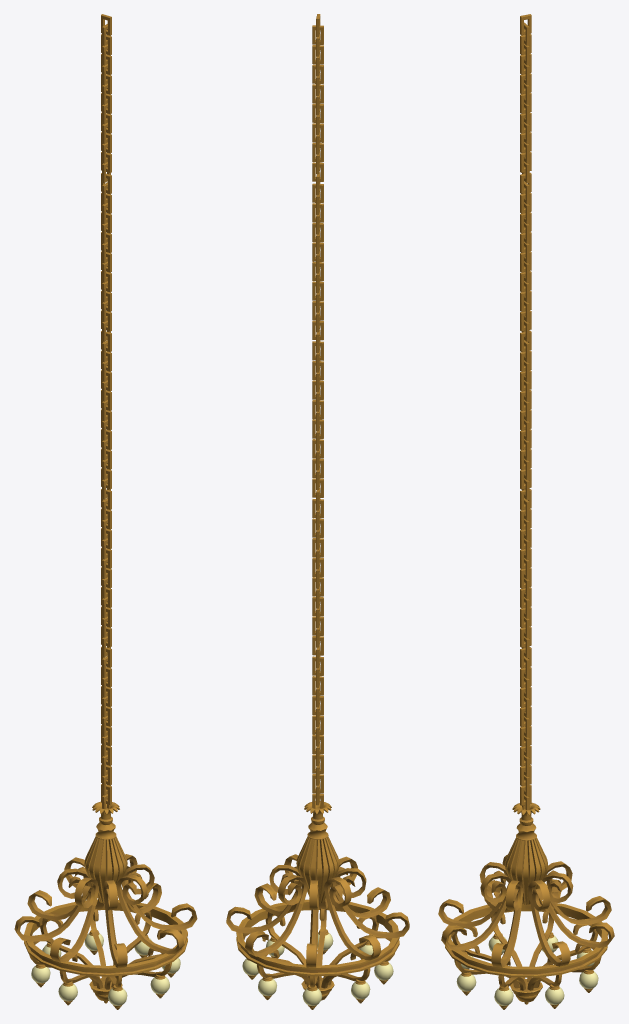
Rendered from ChandelierWithChain.fbx.
3 renders of one model, left to right at view 1: azimuth 30°, elevation 25°; view 2: azimuth 150°, elevation 25°; view 3: azimuth 270°, elevation 25°, orthographic.
Parts seen in each view (by area): view 1: lampCenterRing, chain (4), chain (2), chain (1), chain (3), chain, lampBody1, lampArm5, lampArm7, lampArm, lampArm6, lampArm4 (+2 smaller); view 2: lampCenterRing, chain (4), chain (3), chain (2), chain (1), chain, lampBody1, lampArm2, lampArm, lampArm7, lampArm3, lampArm1 (+2 smaller); view 3: lampCenterRing, chain (4), chain (3), chain (2), chain (1), chain, lampBody1, lampArm5, lampArm3, lampArm2, lampArm4, lampArm1 (+1 smaller).
Boxes of the visible parts, left/top/right/bottom form: lampCenterRing: left=24, top=899, right=187, bottom=976; chain (4): left=101, top=14, right=111, bottom=183; chain (2): left=101, top=331, right=111, bottom=499; chain (1): left=101, top=489, right=111, bottom=657; chain (3): left=101, top=173, right=111, bottom=341; chain: left=101, top=646, right=111, bottom=815; lampBody1: left=84, top=836, right=127, bottom=903; lampArm5: left=116, top=874, right=184, bottom=954; lampArm7: left=50, top=877, right=98, bottom=962; lampArm: left=14, top=868, right=91, bottom=941; lampArm6: left=104, top=880, right=127, bottom=967; lampArm4: left=121, top=864, right=197, bottom=930; lampCenterRing: left=236, top=899, right=399, bottom=976; chain (4): left=312, top=14, right=323, bottom=181; chain (3): left=312, top=172, right=323, bottom=340; chain (2): left=312, top=330, right=323, bottom=497; chain (1): left=312, top=488, right=323, bottom=655; chain: left=312, top=645, right=323, bottom=812; lampBody1: left=296, top=836, right=339, bottom=903; lampArm2: left=245, top=875, right=307, bottom=956; lampArm: left=324, top=877, right=381, bottom=960; lampArm7: left=332, top=868, right=409, bottom=938; lampArm3: left=226, top=865, right=301, bottom=933; lampArm1: left=306, top=880, right=318, bottom=967; lampCenterRing: left=445, top=900, right=607, bottom=977; chain (4): left=520, top=14, right=531, bottom=183; chain (3): left=520, top=172, right=531, bottom=341; chain (2): left=520, top=330, right=531, bottom=499; chain (1): left=520, top=489, right=531, bottom=657; chain: left=520, top=647, right=531, bottom=816; lampBody1: left=505, top=837, right=547, bottom=904; lampArm5: left=441, top=873, right=511, bottom=950; lampArm3: left=528, top=880, right=570, bottom=966; lampArm2: left=539, top=872, right=614, bottom=947; lampArm4: left=491, top=880, right=523, bottom=967; lampArm1: left=544, top=861, right=611, bottom=925.
Size of the model in its own units: 8.43 by 52.1 by 8.43.
